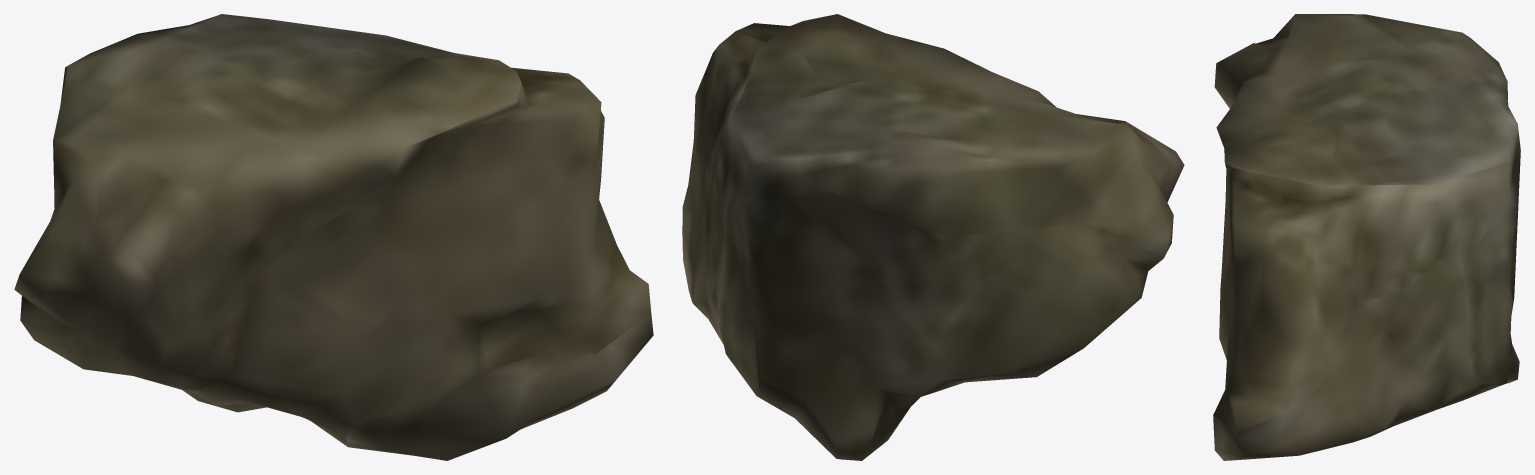
3 renders of one model, left to right at view 1: azimuth 30°, elevation 25°; view 2: azimuth 150°, elevation 25°; view 3: azimuth 270°, elevation 25°, orthographic. The views are drawn at different scales.
Visible parts, largest first — view 1: rock_moss_set_02__g_lod2; view 2: rock_moss_set_02__g_lod2; view 3: rock_moss_set_02__g_lod2.
Boxes of the visible parts, bbox=[...] form: rock_moss_set_02__g_lod2: bbox=[14, 14, 653, 460]; rock_moss_set_02__g_lod2: bbox=[682, 14, 1184, 460]; rock_moss_set_02__g_lod2: bbox=[1213, 14, 1520, 460].
Size of the model in its own units: 2.05 by 1.24 by 1.11.
1 material, 1 textured.
